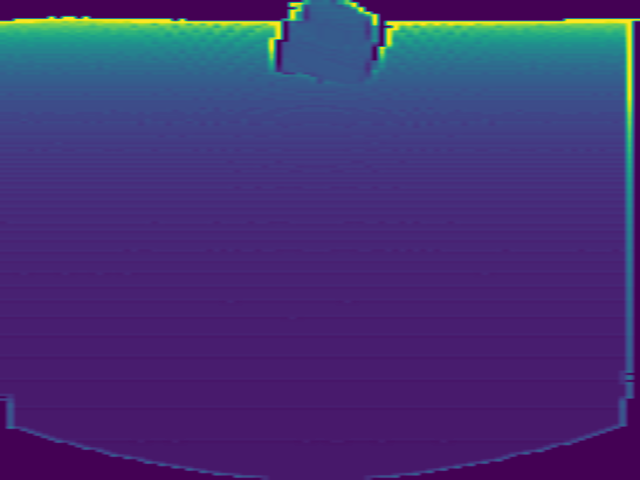car_0027: (274, 1, 387, 84)
